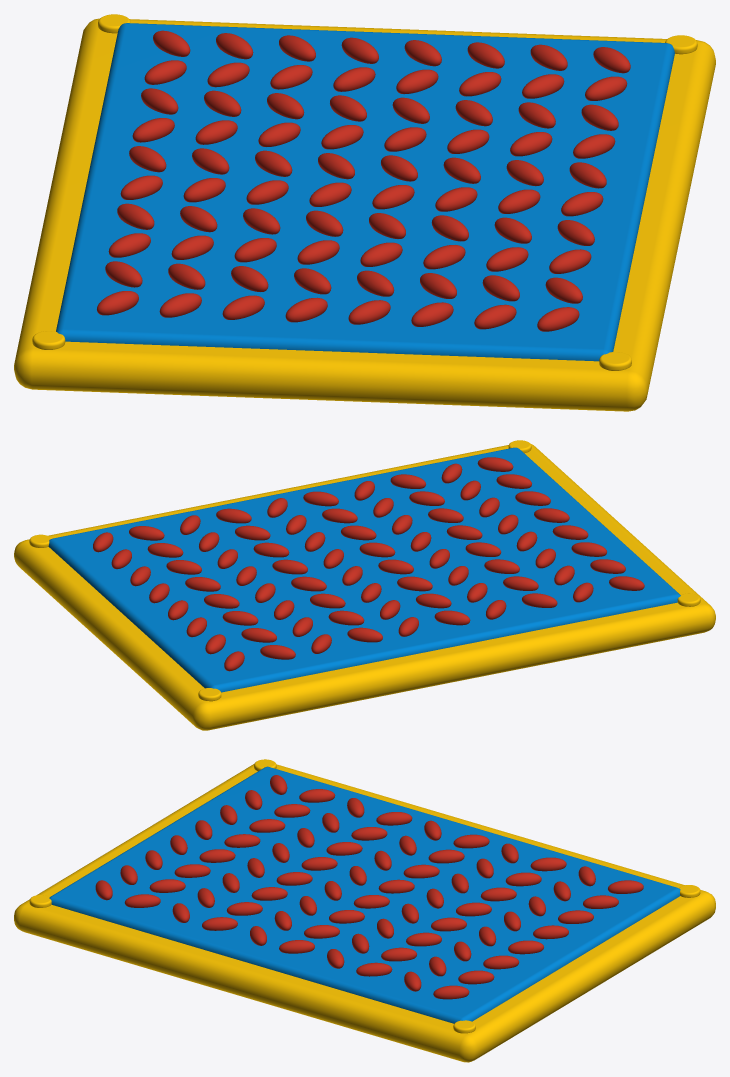
Rendered from raised-grain-tile.glb.
3 renders of one model, top to bottom at view 1: azimuth 30°, elevation 25°; view 2: azimuth 150°, elevation 25°; view 3: azimuth 270°, elevation 25°, orthographic. The views are drawn at different scales.
Visible parts, largest first — view 1: raised-grain-tile-part-002, raised-grain-tile-part-001, raised-grain-tile-part-051, raised-grain-tile-part-041, raised-grain-tile-part-015, raised-grain-tile-part-043, raised-grain-tile-part-045, raised-grain-tile-part-013, raised-grain-tile-part-017, raised-grain-tile-part-023, raised-grain-tile-part-029, raised-grain-tile-part-033 (+70 smaller); view 2: raised-grain-tile-part-002, raised-grain-tile-part-001; view 3: raised-grain-tile-part-002, raised-grain-tile-part-001.
Part boxes in pixels (x1,y1,x2,y2): raised-grain-tile-part-002: [56, 23, 674, 361]; raised-grain-tile-part-001: [14, 18, 715, 411]; raised-grain-tile-part-051: [333, 67, 375, 91]; raised-grain-tile-part-041: [396, 69, 438, 94]; raised-grain-tile-part-015: [486, 247, 528, 271]; raised-grain-tile-part-043: [285, 297, 327, 322]; raised-grain-tile-part-045: [297, 240, 339, 264]; raised-grain-tile-part-013: [474, 304, 516, 329]; raised-grain-tile-part-017: [498, 189, 540, 213]; raised-grain-tile-part-023: [411, 302, 453, 326]; raised-grain-tile-part-029: [447, 129, 489, 153]; raised-grain-tile-part-033: [348, 300, 390, 324]; raised-grain-tile-part-002: [48, 447, 680, 692]; raised-grain-tile-part-001: [14, 444, 715, 730]; raised-grain-tile-part-002: [49, 766, 680, 1023]; raised-grain-tile-part-001: [14, 764, 715, 1062].
Bounding box in the file's own units: 2.87 × 0.202 × 3.
